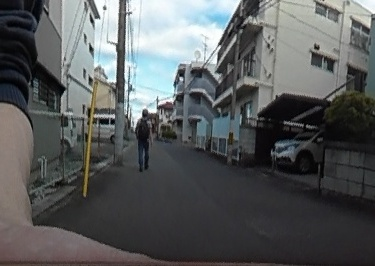person: (134, 108, 153, 173)
